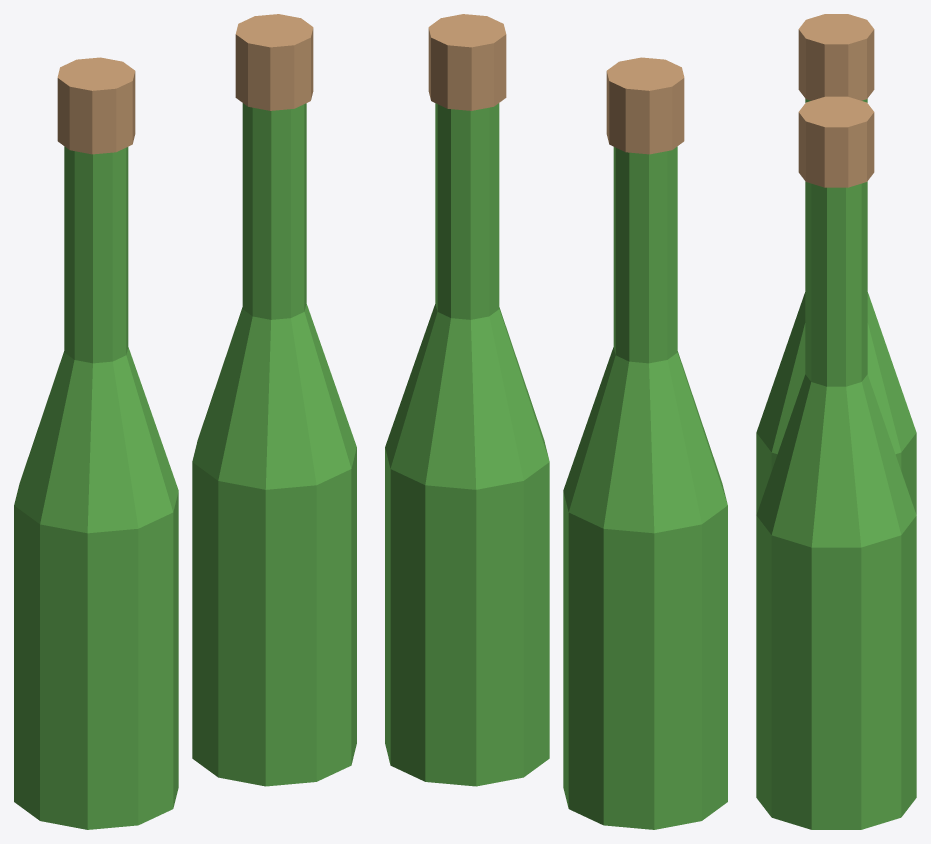
Rendered from bottle_skin_5.glb.
3 renders of one model, left to right at view 1: azimuth 30°, elevation 25°; view 2: azimuth 150°, elevation 25°; view 3: azimuth 270°, elevation 25°, orthographic. The views are drawn at different scales.
Parts seen in each view (by area): view 1: bottle_skin_5; view 2: bottle_skin_5; view 3: bottle_skin_5.
Boxes of the visible parts, box(x1,y1,x2,y2) form: bottle_skin_5: box(14, 14, 356, 829); bottle_skin_5: box(385, 14, 727, 829); bottle_skin_5: box(756, 14, 916, 829).
Size of the model in its own units: 0.9204 by 2 by 0.4235.
